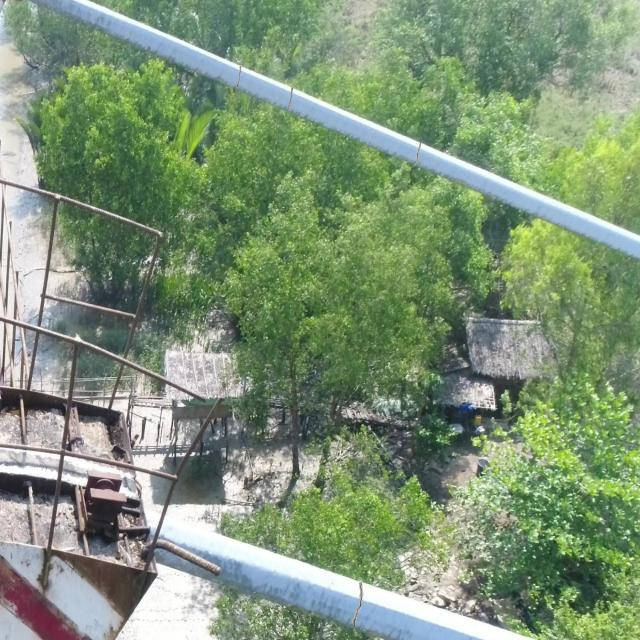crack: (350, 583, 365, 629), (414, 142, 422, 166), (287, 86, 294, 112), (235, 65, 242, 89)
